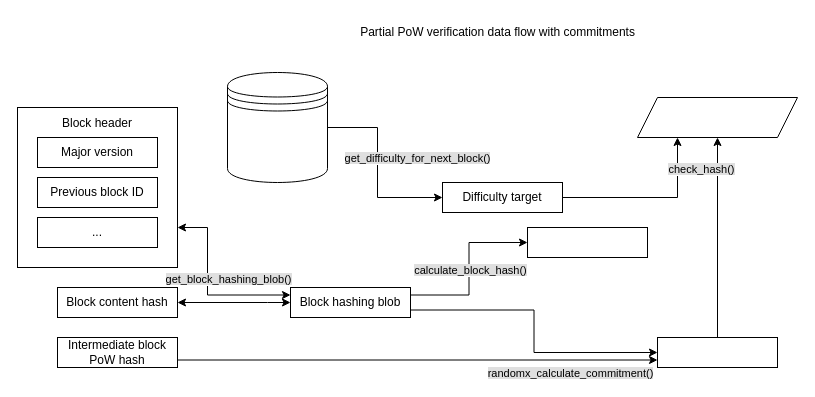
The diagram is 815 pixels wide and 397 high, and some of its shapes have lost their labels. The centre of each missing label's shape, as x and y in pixels:
Block ID: point 587,242
Block PoW hash: point 717,352
Block's PoW is probably valid?: point 717,117
Blockchain DB: point 277,127
